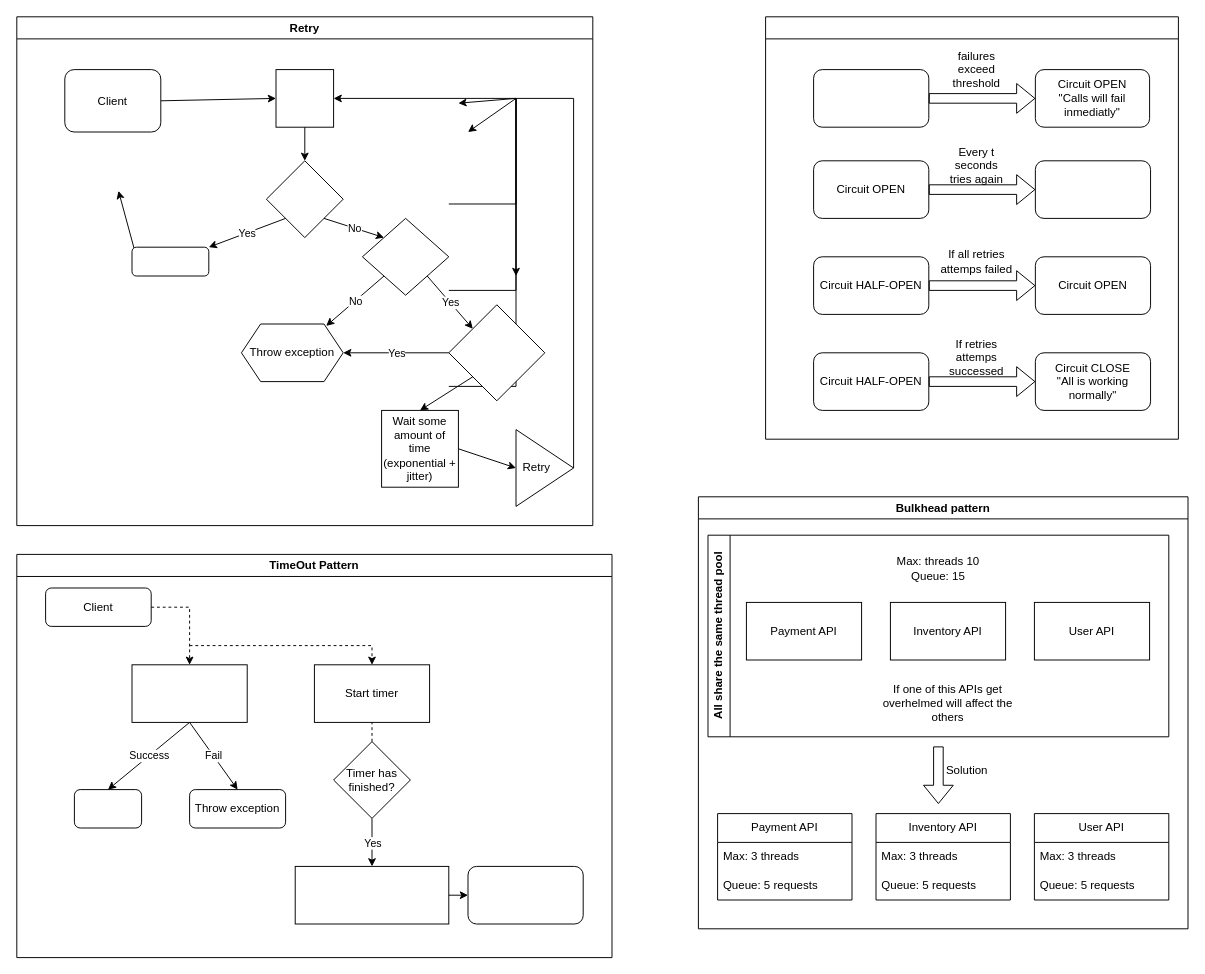
Some shapes in this 1205 by 974 pixel diagram are drawn without their labels. Each missing label, with the box of its shape:
Circuit breaker: (765, 16, 1178, 439)
Circuit CLOSE: (813, 69, 929, 127)
Circuit HALF-OPEN "Only some test calls are allowed": (1034, 160, 1151, 218)
Execute operation: (275, 69, 334, 127)
Execute process: (131, 664, 247, 722)
Finish Process (Optimistic = with ct Pesimistic = force detention): (294, 865, 449, 924)
Is Transient?: (361, 217, 449, 295)
Max attemps reached?: (448, 304, 545, 401)
Return: (131, 246, 209, 276)
Return result: (73, 789, 142, 828)
Success?: (265, 160, 343, 238)
Throw timeout exception: (467, 865, 583, 924)
